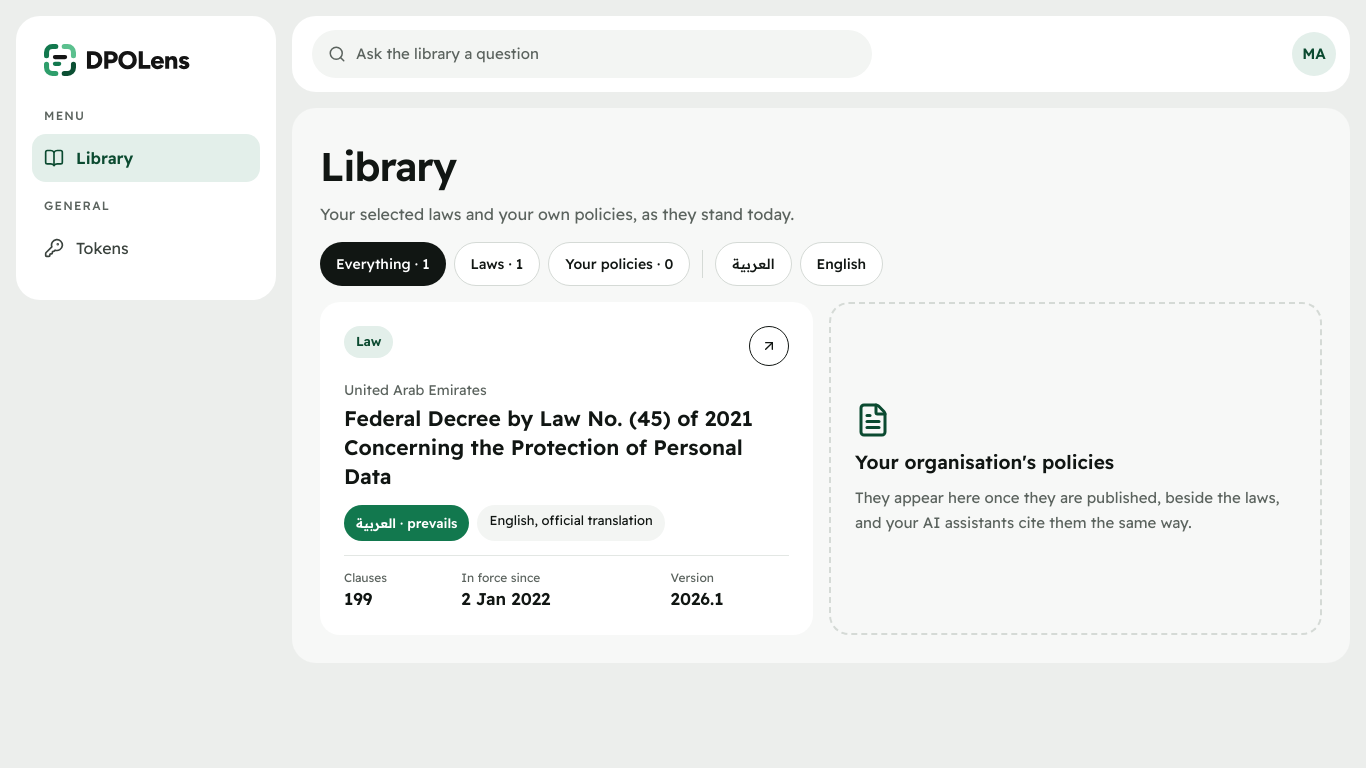
Test: the shell › shows only the avatar, and the name, role and sign-out in its menu
The width and height of the screenshot is (1366, 768).
Expected: the text "Mariam Al Amiri" is not shown
What coordinates should you click on to do the following:
click the button with aria-label "Your account"
I would click on:
 (1314, 54)
Its box is x1=1292 y1=32 x2=1336 y2=76.
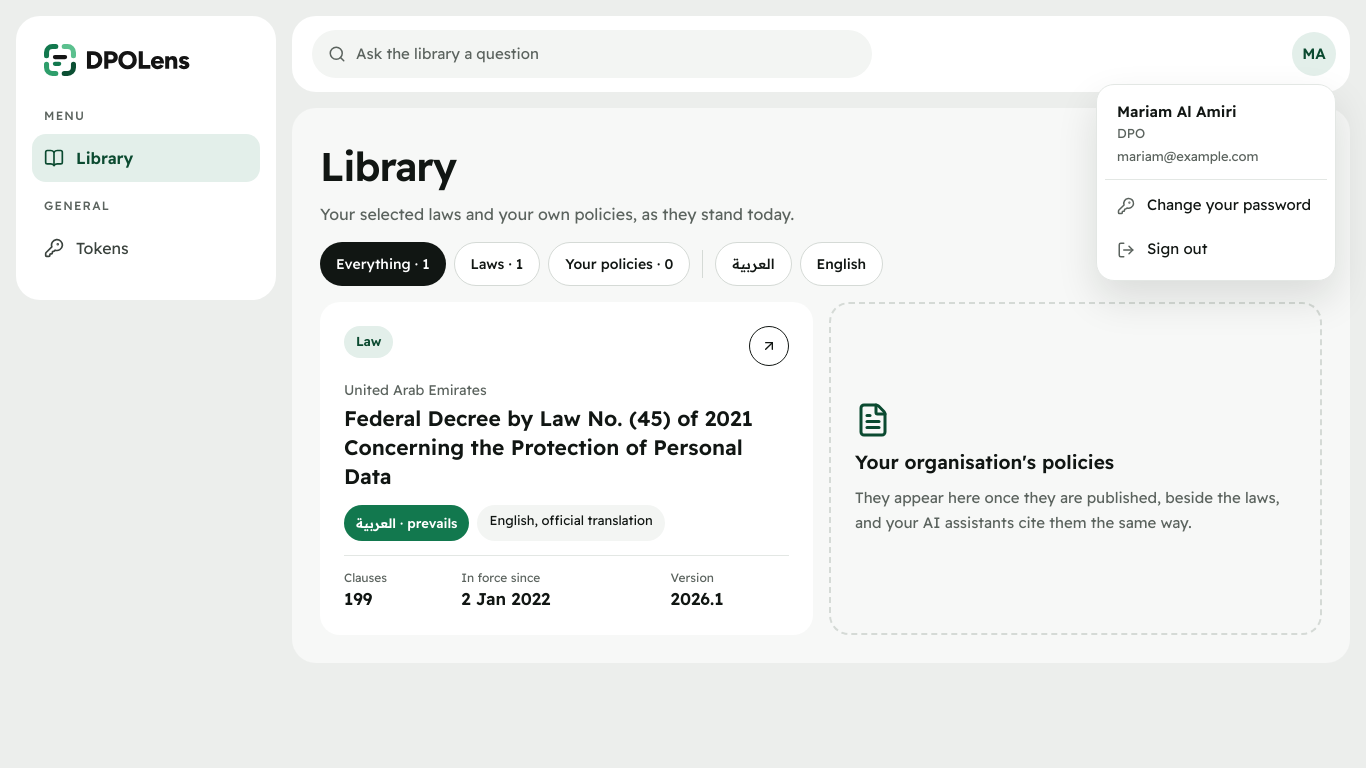
Result: the text "Mariam Al Amiri" is shown at x1=1117 y1=102 x2=1237 y2=121
Result: the text "DPO" is shown at x1=1117 y1=124 x2=1145 y2=140
What coordinates should you click on to do the following:
click the menu item "Sign out"
I would click on:
 (1162, 249)
Its box is x1=1117 y1=239 x2=1208 y2=259.
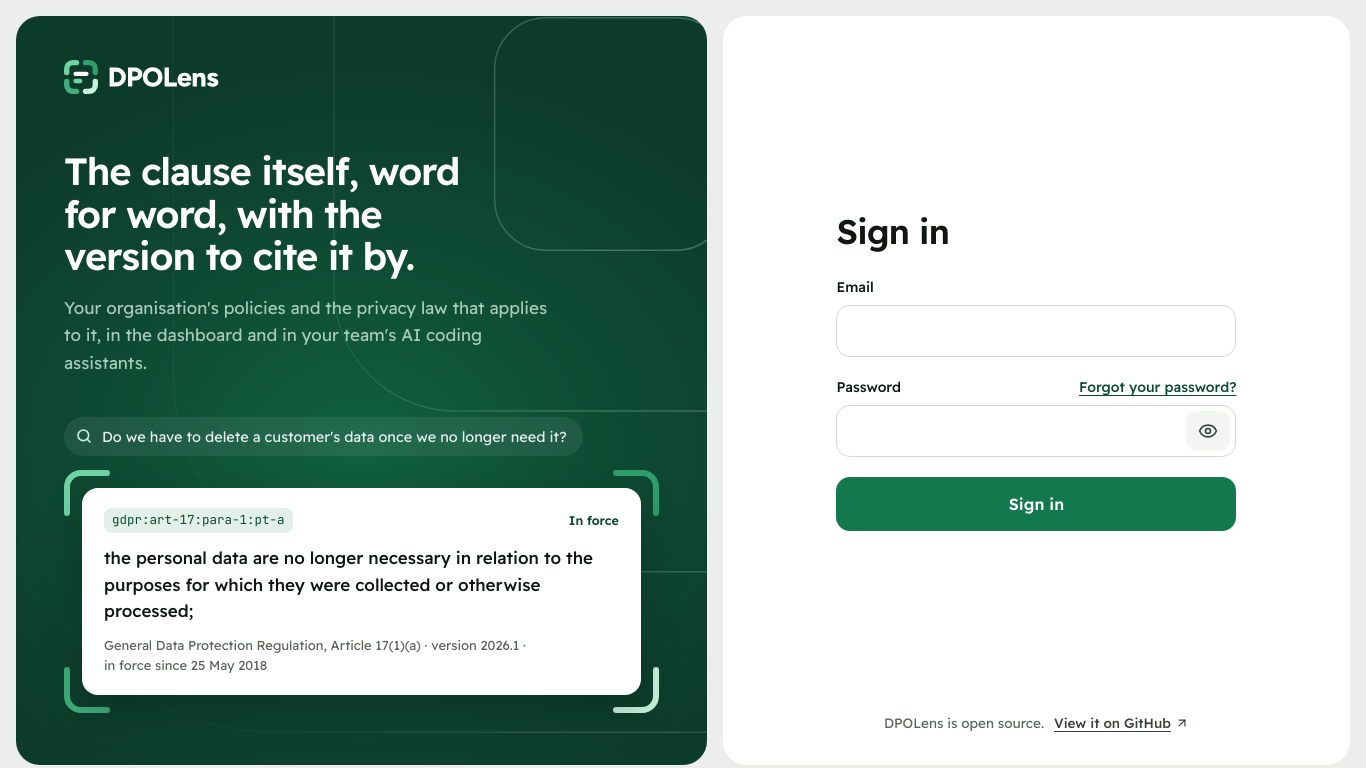
Result: the heading "Sign in" is shown at x1=836 y1=210 x2=949 y2=253
